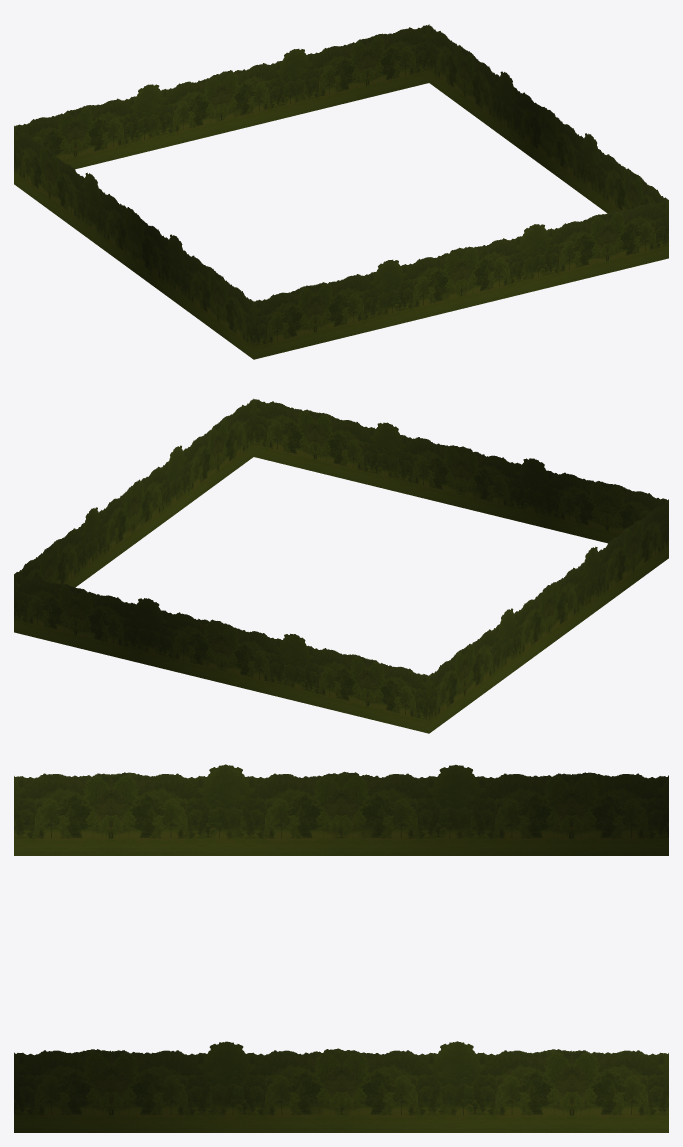
The model's file is TreesSkybox.glb.
The picture shows the model from 3 angles, top to bottom: view 1: azimuth 30°, elevation 25°; view 2: azimuth 150°, elevation 25°; view 3: azimuth 270°, elevation 25°; orthographic projection. The views are drawn at different scales.
Parts seen in each view (by area): view 1: Cube; view 2: Cube; view 3: Cube.
Boxes of the visible parts, <box> form: Cube: <box>14,24,668,359</box>; Cube: <box>14,398,668,733</box>; Cube: <box>14,764,668,1132</box>.
Bounding box in the file's own units: 160 × 25.3 × 160.
1 material, 1 textured.
